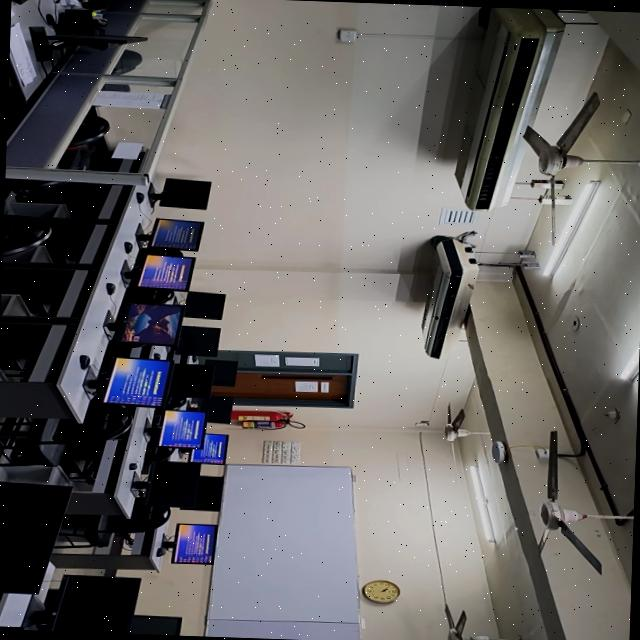Ac: (456, 6, 565, 210), (422, 230, 479, 358)
Chair: (0, 404, 132, 465), (61, 504, 169, 545), (2, 214, 51, 256), (69, 113, 109, 146), (4, 177, 66, 191), (111, 48, 142, 74), (145, 445, 175, 462)
Cpu: (18, 183, 108, 217), (1, 269, 70, 313), (0, 324, 46, 368)
Fire Extinguisher: (234, 410, 305, 429), (232, 409, 288, 420)
Light: (542, 179, 601, 276), (469, 463, 495, 542), (620, 342, 639, 380)
Monitor: (0, 481, 72, 593), (23, 573, 139, 633), (99, 356, 171, 405), (117, 302, 183, 345), (31, 27, 146, 51), (142, 460, 199, 506), (158, 522, 217, 563), (133, 253, 195, 289), (137, 217, 203, 250), (148, 177, 210, 208), (159, 409, 205, 447), (169, 363, 214, 397), (180, 474, 223, 509), (176, 325, 220, 356), (189, 432, 228, 463), (127, 614, 181, 635), (185, 290, 225, 318), (199, 395, 233, 423), (206, 359, 237, 386)
Mouse: (79, 354, 90, 369), (106, 281, 116, 294), (124, 241, 133, 253), (136, 191, 145, 203), (157, 546, 167, 556), (129, 461, 137, 469), (154, 352, 163, 358)
